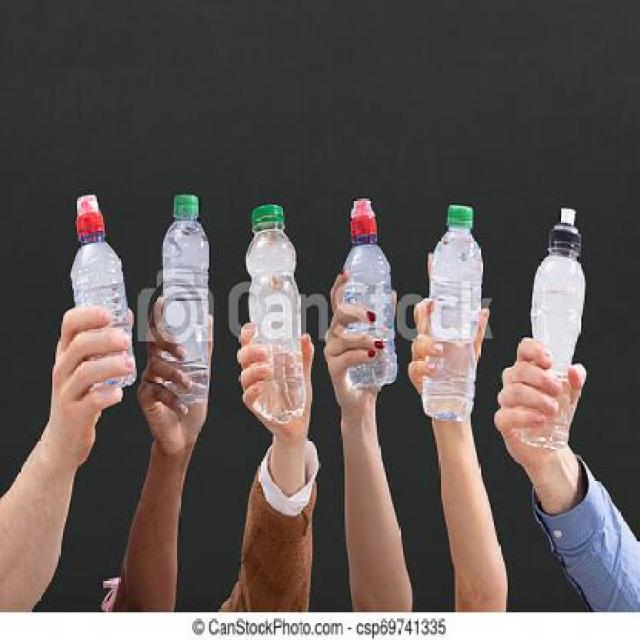Drinking: (514, 205, 594, 469), (322, 186, 412, 406), (57, 186, 140, 409), (148, 181, 215, 419), (431, 200, 492, 434)
